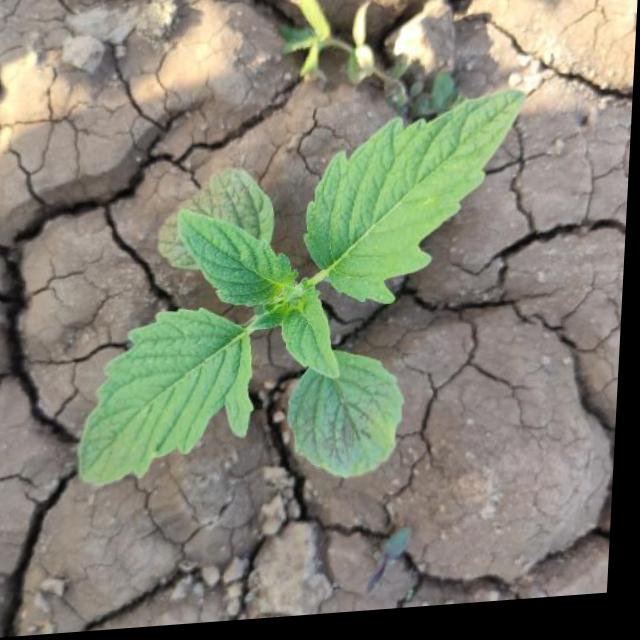crop: (79, 100, 552, 518)
